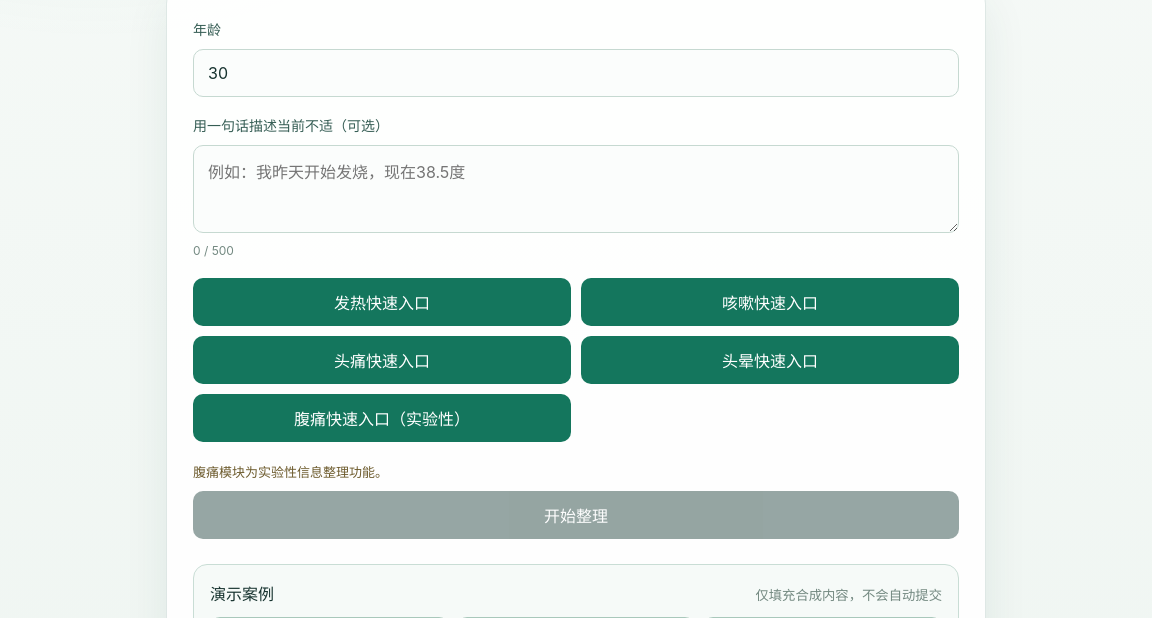
开发模式Mock适配器页面 › 标准问题模式保持原始canonicalQuestion
The width and height of the screenshot is (1152, 618).
(page scrolled)
Click the button "发热快速入口".
click(382, 302)  # box x1=193 y1=278 x2=571 y2=326
(page scrolled)
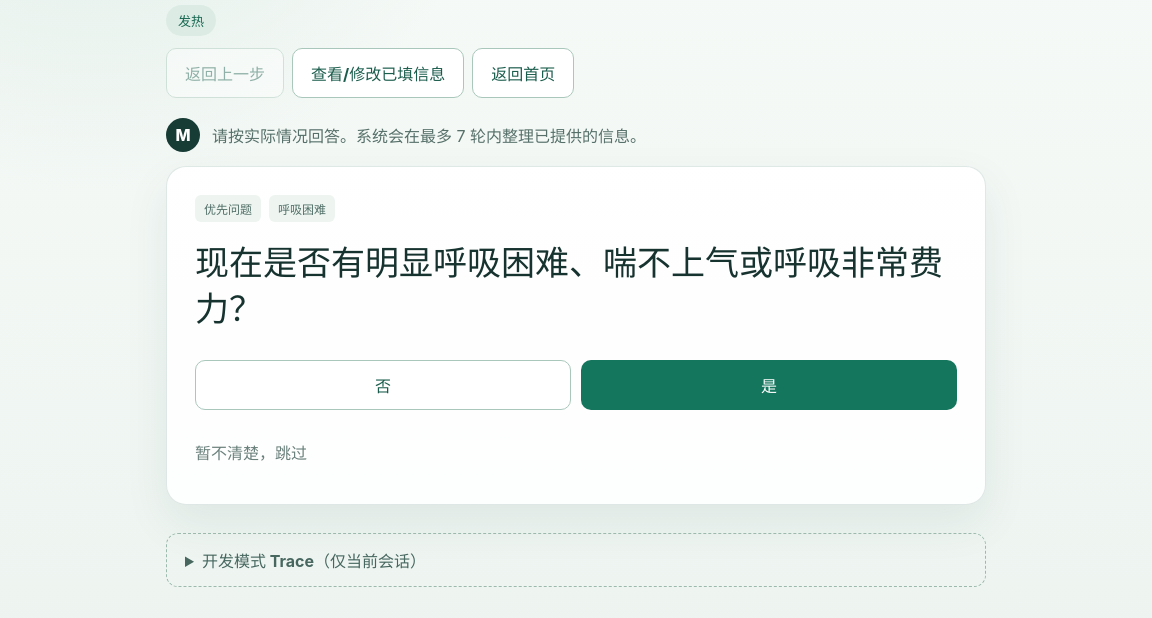
Expected: the heading "现在是否有明显呼吸困难、喘不上气或呼吸非常费力？" is shown, x1=195 y1=240 x2=957 y2=332
